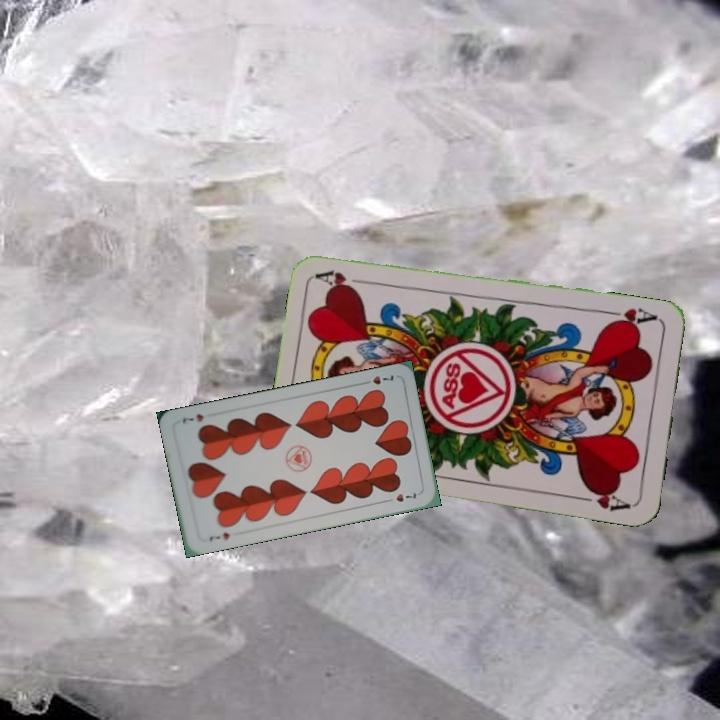H7: (358, 371, 396, 387), (205, 528, 232, 543)
HA: (603, 304, 662, 331)
